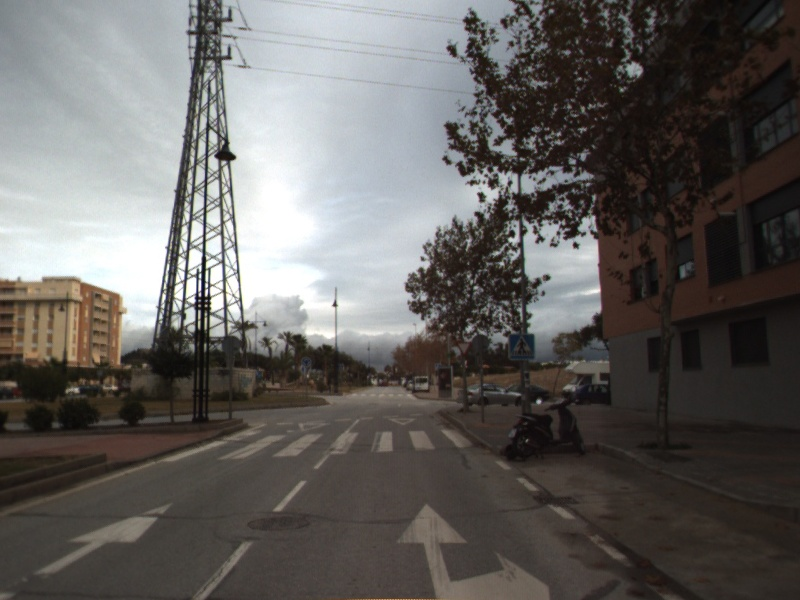STRAIGHT: (1, 500, 175, 600)
STRAIGHT_RIGHT: (393, 501, 553, 600)
